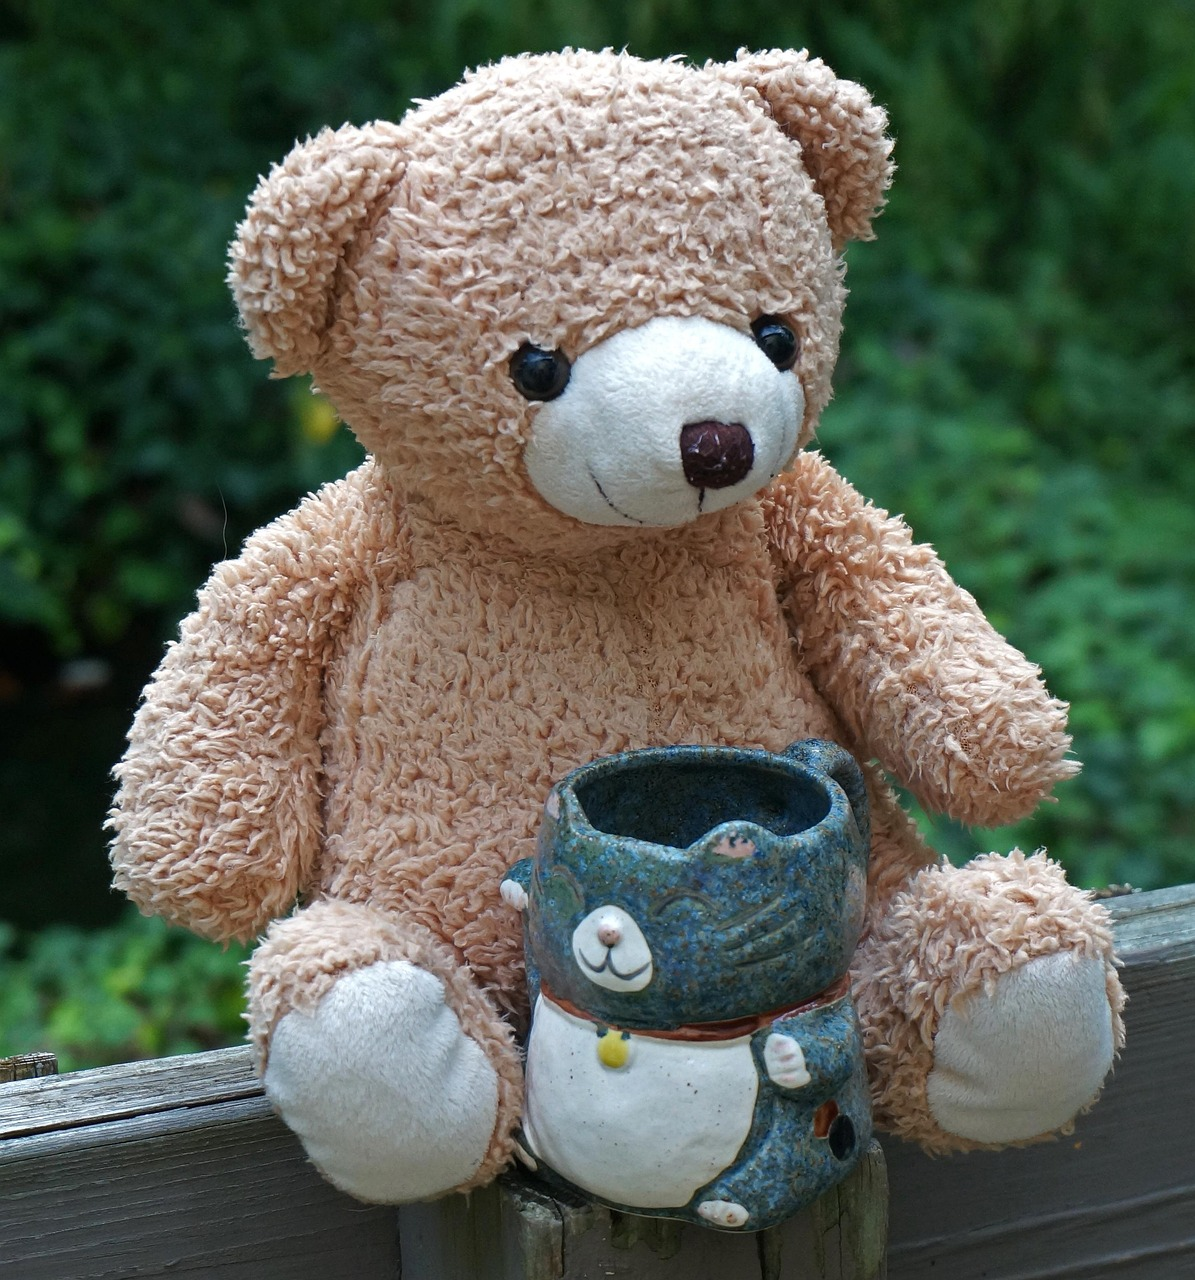mug: (447, 691, 913, 1236)
